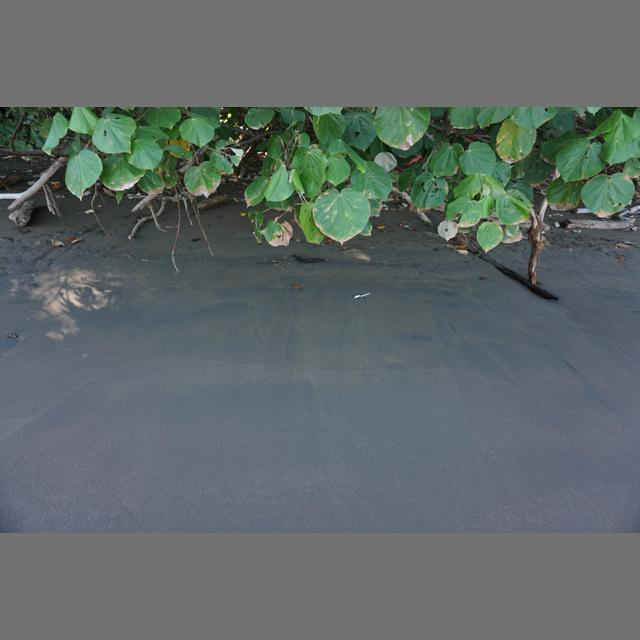litter: (354, 293, 370, 298)
